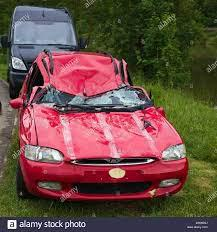Front-Windscreen-Damage: (39, 78, 150, 114)
roof-dent: (32, 50, 133, 89)
